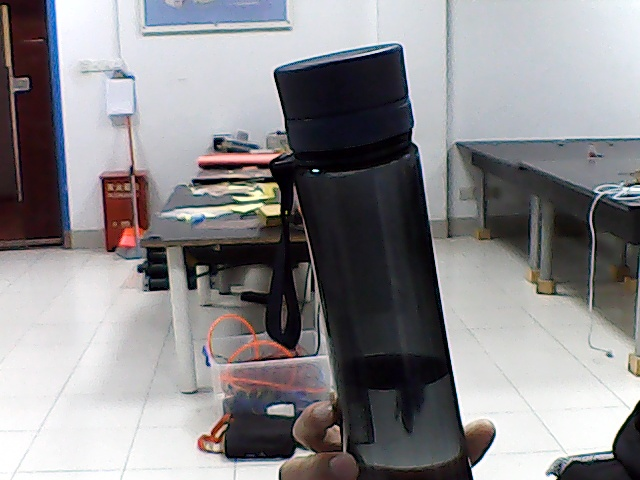cup: (299, 63, 401, 320)
